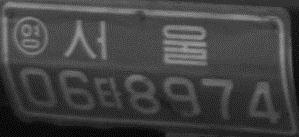0: (19, 66, 57, 109)
4: (245, 79, 279, 126)
6: (58, 68, 94, 111)
7: (202, 76, 233, 121)
8: (124, 73, 160, 115)
9: (162, 74, 201, 119)
서울_D: (62, 20, 208, 66)
영: (12, 15, 49, 56)
타: (95, 77, 123, 110)
